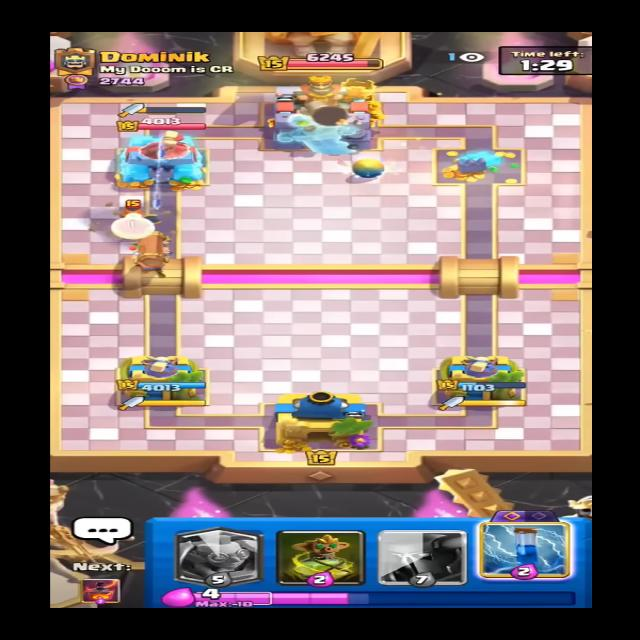valkyrie: (102, 196, 162, 232)
